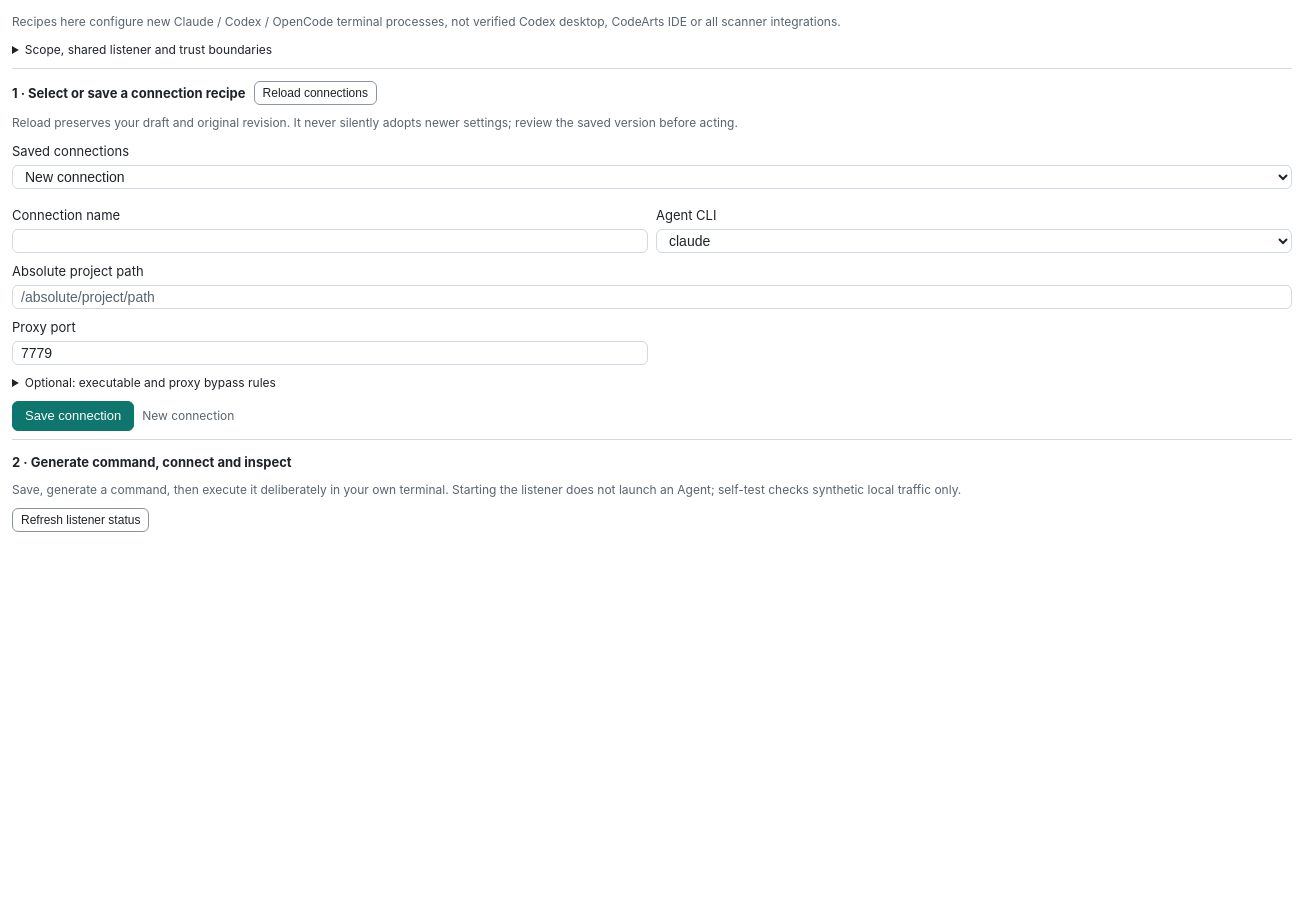
Test: rejects another recipe identity even when diagnostic revisions match
The image size is (1304, 912).
Select "Synthetic recipe · codex · r1" in the dropdown labelled "Saved connections" at (652, 177), box [12,165,1292,189]
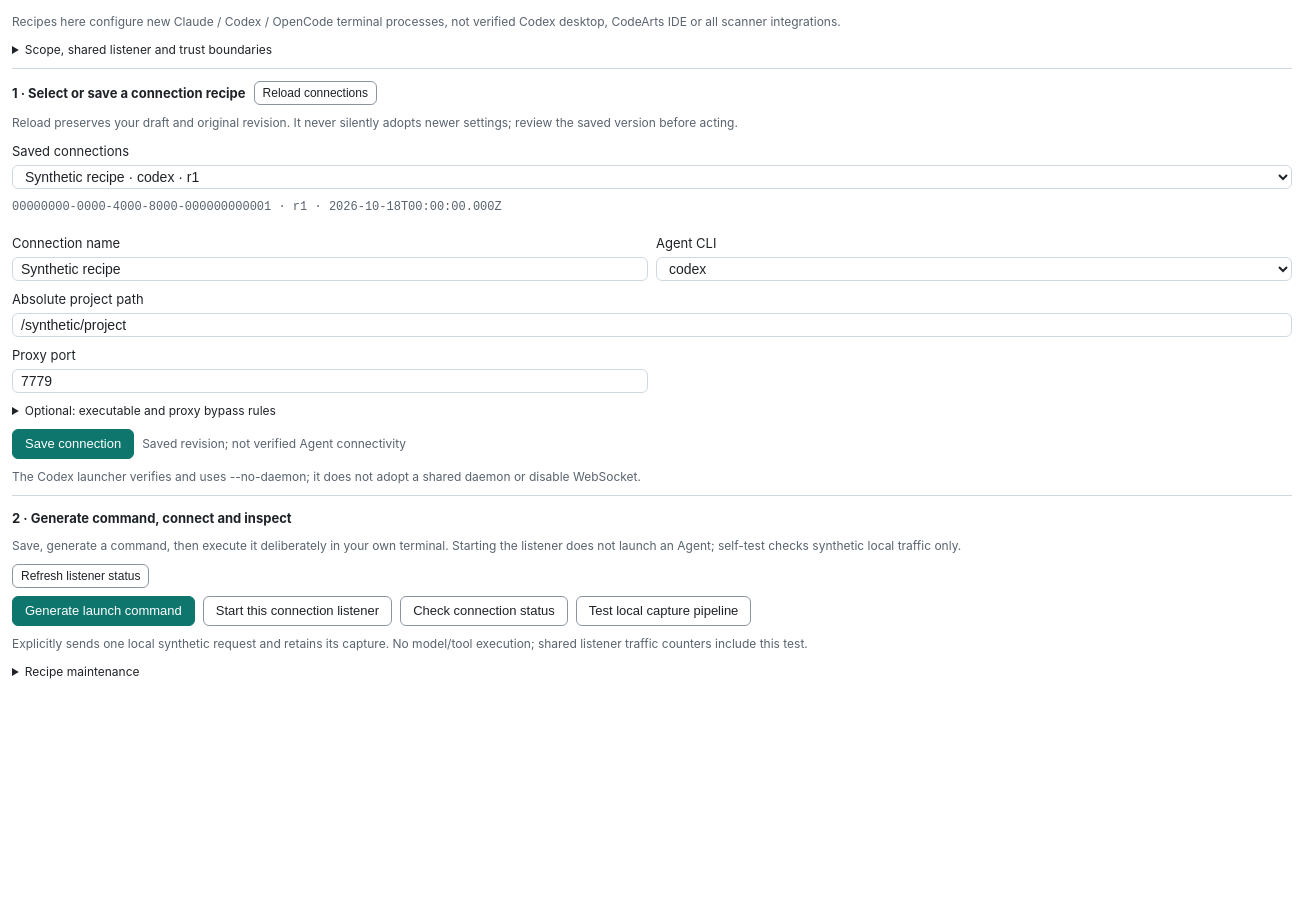
Click the button "Check connection status".
click(484, 611)  # box [400,596,568,626]
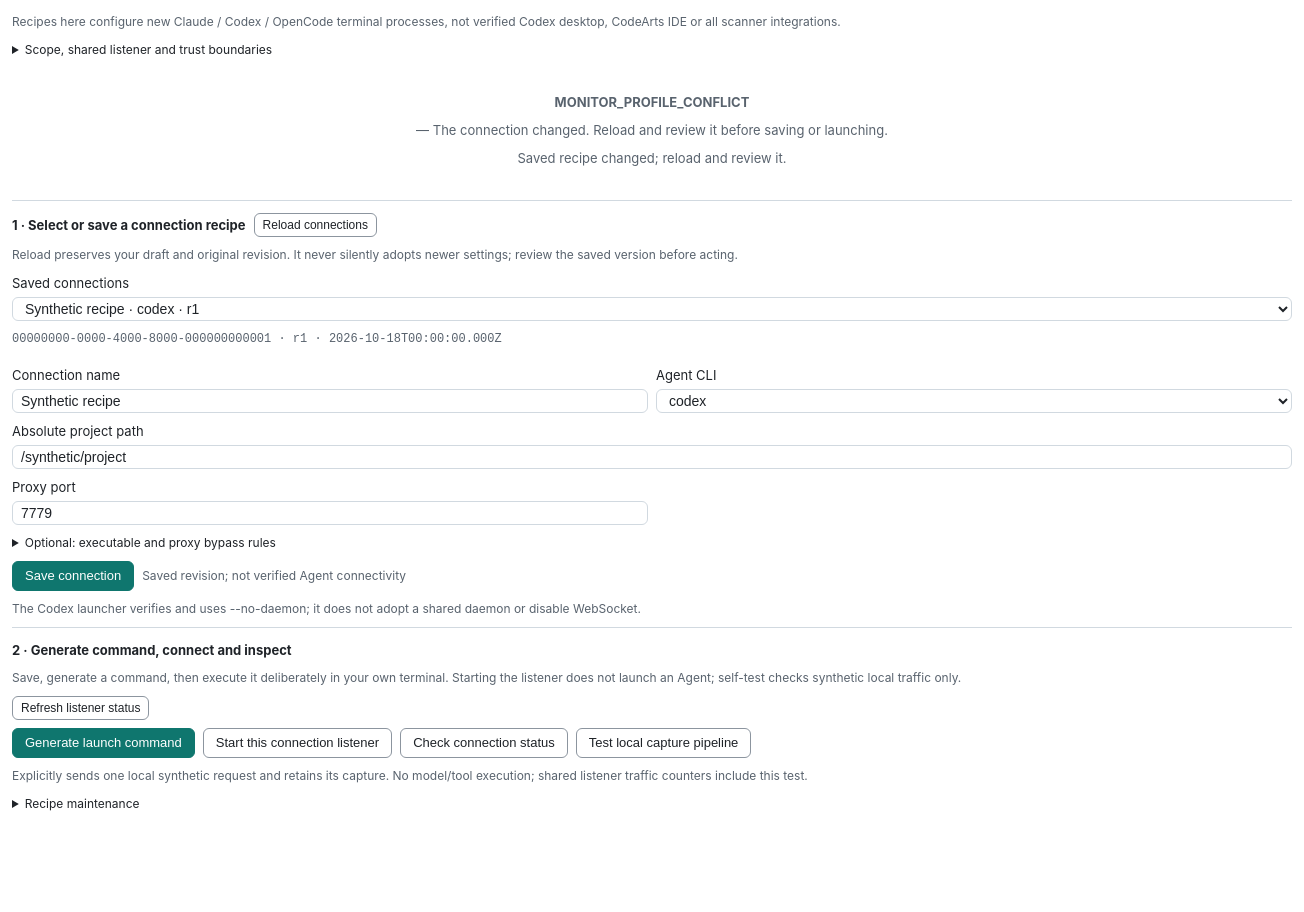
Now the text "MONITOR_PROFILE_CONFLICT" is shown, box [555,92,749,112]
